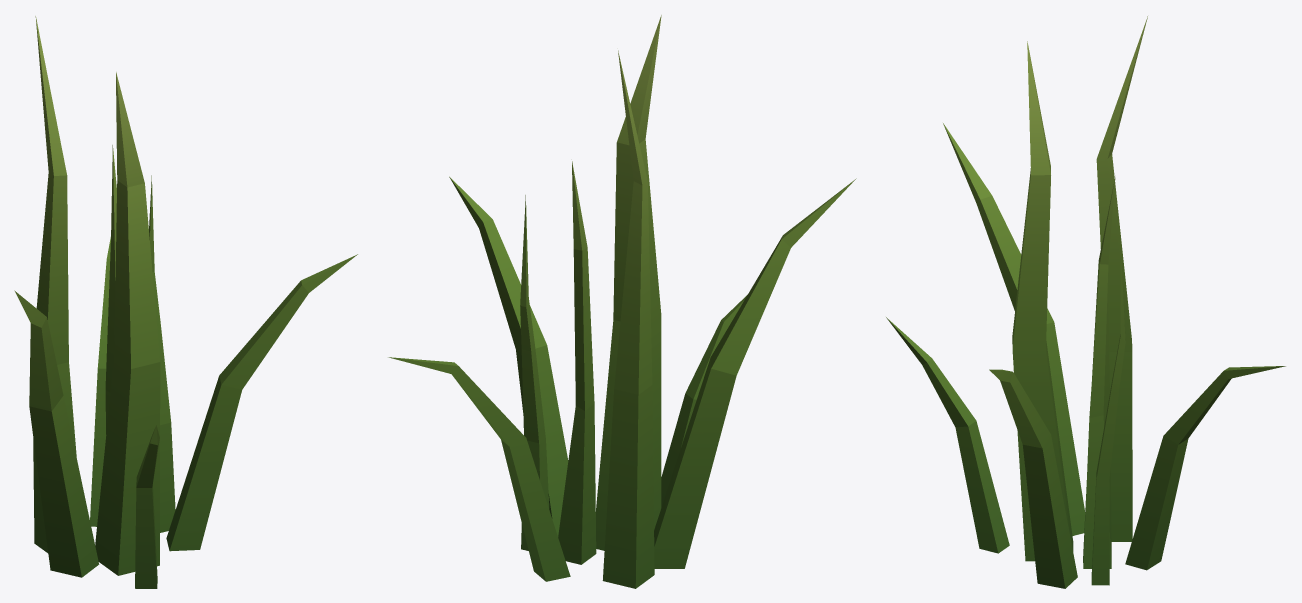
Rendered from Summer_Grass_01.glb.
The picture shows the model from 3 angles, left to right: view 1: azimuth 30°, elevation 25°; view 2: azimuth 150°, elevation 25°; view 3: azimuth 270°, elevation 25°; orthographic projection. The views are drawn at different scales.
Visible parts, largest first — view 1: Summer_Grass_01_LOD0; view 2: Summer_Grass_01_LOD0; view 3: Summer_Grass_01_LOD0.
Boxes of the visible parts, bbox=[...] form: Summer_Grass_01_LOD0: bbox=[14, 16, 357, 588]; Summer_Grass_01_LOD0: bbox=[388, 15, 856, 588]; Summer_Grass_01_LOD0: bbox=[886, 16, 1285, 588].
Size of what is drawn, in the model's own units: 0.4749 by 0.6435 by 0.4538.
1 material, 1 textured.
